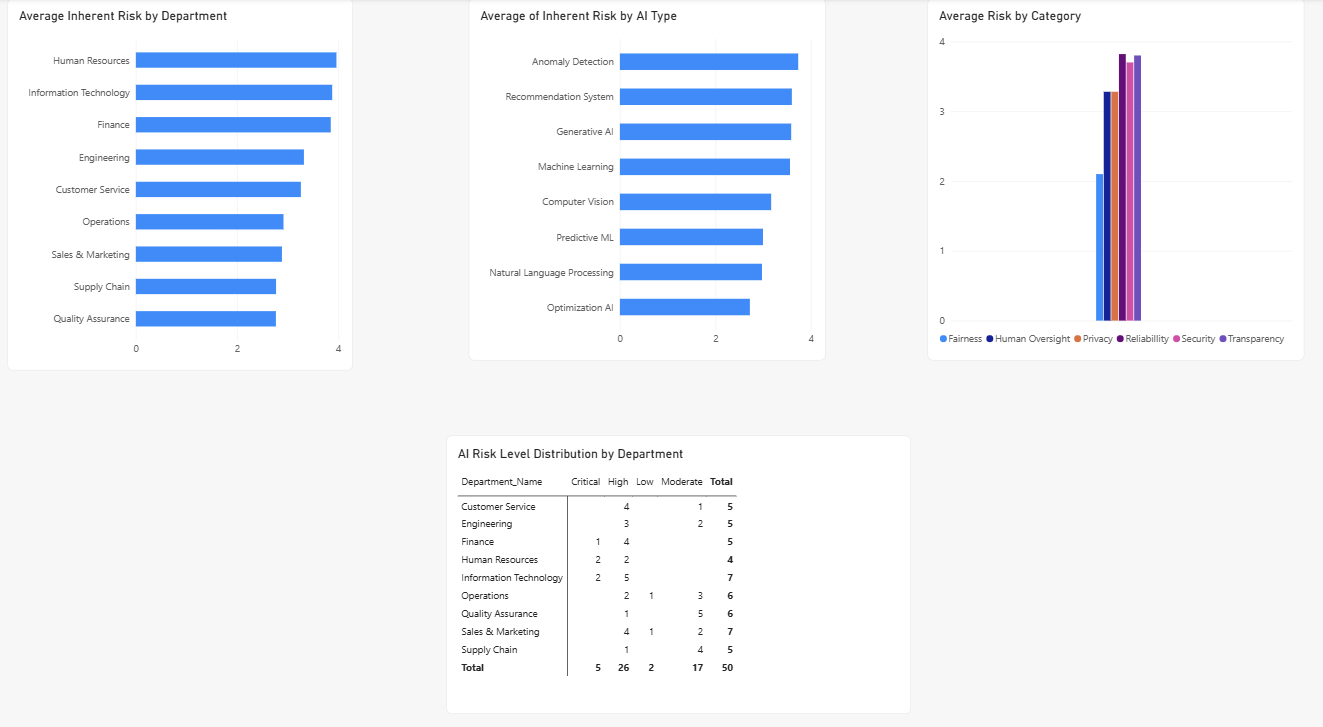

The dashboard page shown, as its layout file describes it:
{"tool":"powerbi","page":{"name":"Page 2","canvas":[1920,1080],"ordinal":1},"visuals":[{"type":"clusteredBarChart","title":"Average Inherent Risk by Department","fields":{"Category":["departments.Department_Name"],"Y":["Avg(risk_assessments.Overall_Risk_Score)"]},"box":[10.3,0,500.2,539.3],"z":0},{"type":"clusteredBarChart","title":"Average of Inherent Risk by AI Type","fields":{"Category":["ai_systems.AI_Type"],"Y":["Avg(risk_assessments.Overall_Risk_Score)"]},"box":[679.2,0,516.6,524.9],"z":1},{"type":"clusteredColumnChart","title":"Average Risk by Category","fields":{"Y":["risk_assessments.Average Fairness Risk","risk_assessments.Average Human Oversight Risk","risk_assessments.Average Privacy Risk","risk_assessments.Average Reliabillity Risk","risk_assessments.Average Security Risk","risk_assessments.Average Transparency Risk"]},"box":[1342,0,545.5,524.9],"z":2},{"type":"pivotTable","title":"AI Risk Level Distribution by Department","fields":{"Columns":["risk_assessments.Risk_Level"],"Rows":["departments.Department_Name"],"Values":["Count(ai_systems.AI_System_ID)"]},"box":[646.3,634,673.1,403.4],"z":3}]}

Visuals, with their boxes in screenshot pixels (x1, y1, x2, y2), scaled from the page's 1920x1080 canvas onto the 1323x727 screenshot:
"Average Inherent Risk by Department" clusteredBarChart: [x1=7, y1=0, x2=352, y2=363]
"Average of Inherent Risk by AI Type" clusteredBarChart: [x1=468, y1=0, x2=824, y2=353]
"Average Risk by Category" clusteredColumnChart: [x1=925, y1=0, x2=1301, y2=353]
"AI Risk Level Distribution by Department" pivotTable: [x1=445, y1=427, x2=909, y2=698]
